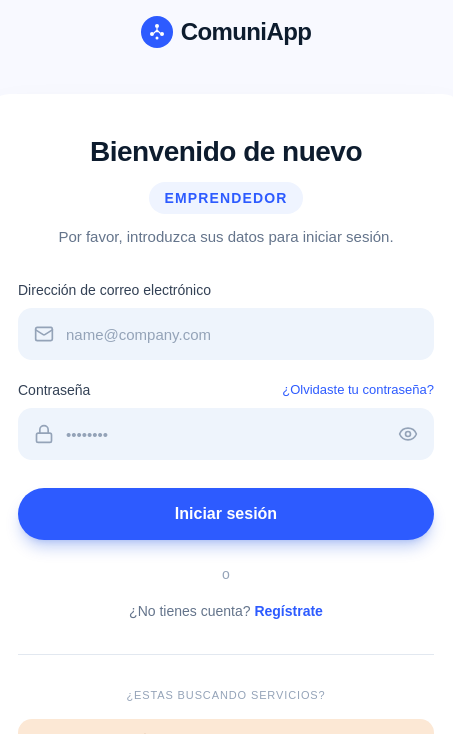
Scenario: LoginEmprendedorPage › muestra errores cuando el formulario está vacío
Click the button "Iniciar sesión" at (226, 514), box x1=18 y1=488 x2=434 y2=540
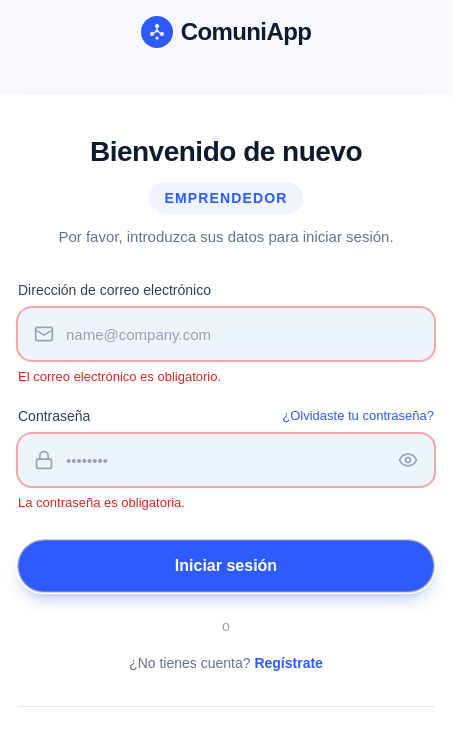
Now the text "El correo electrónico es obligatorio." is shown, box x1=18 y1=369 x2=221 y2=384
Now the text "La contraseña es obligatoria." is shown, box x1=18 y1=495 x2=185 y2=510
